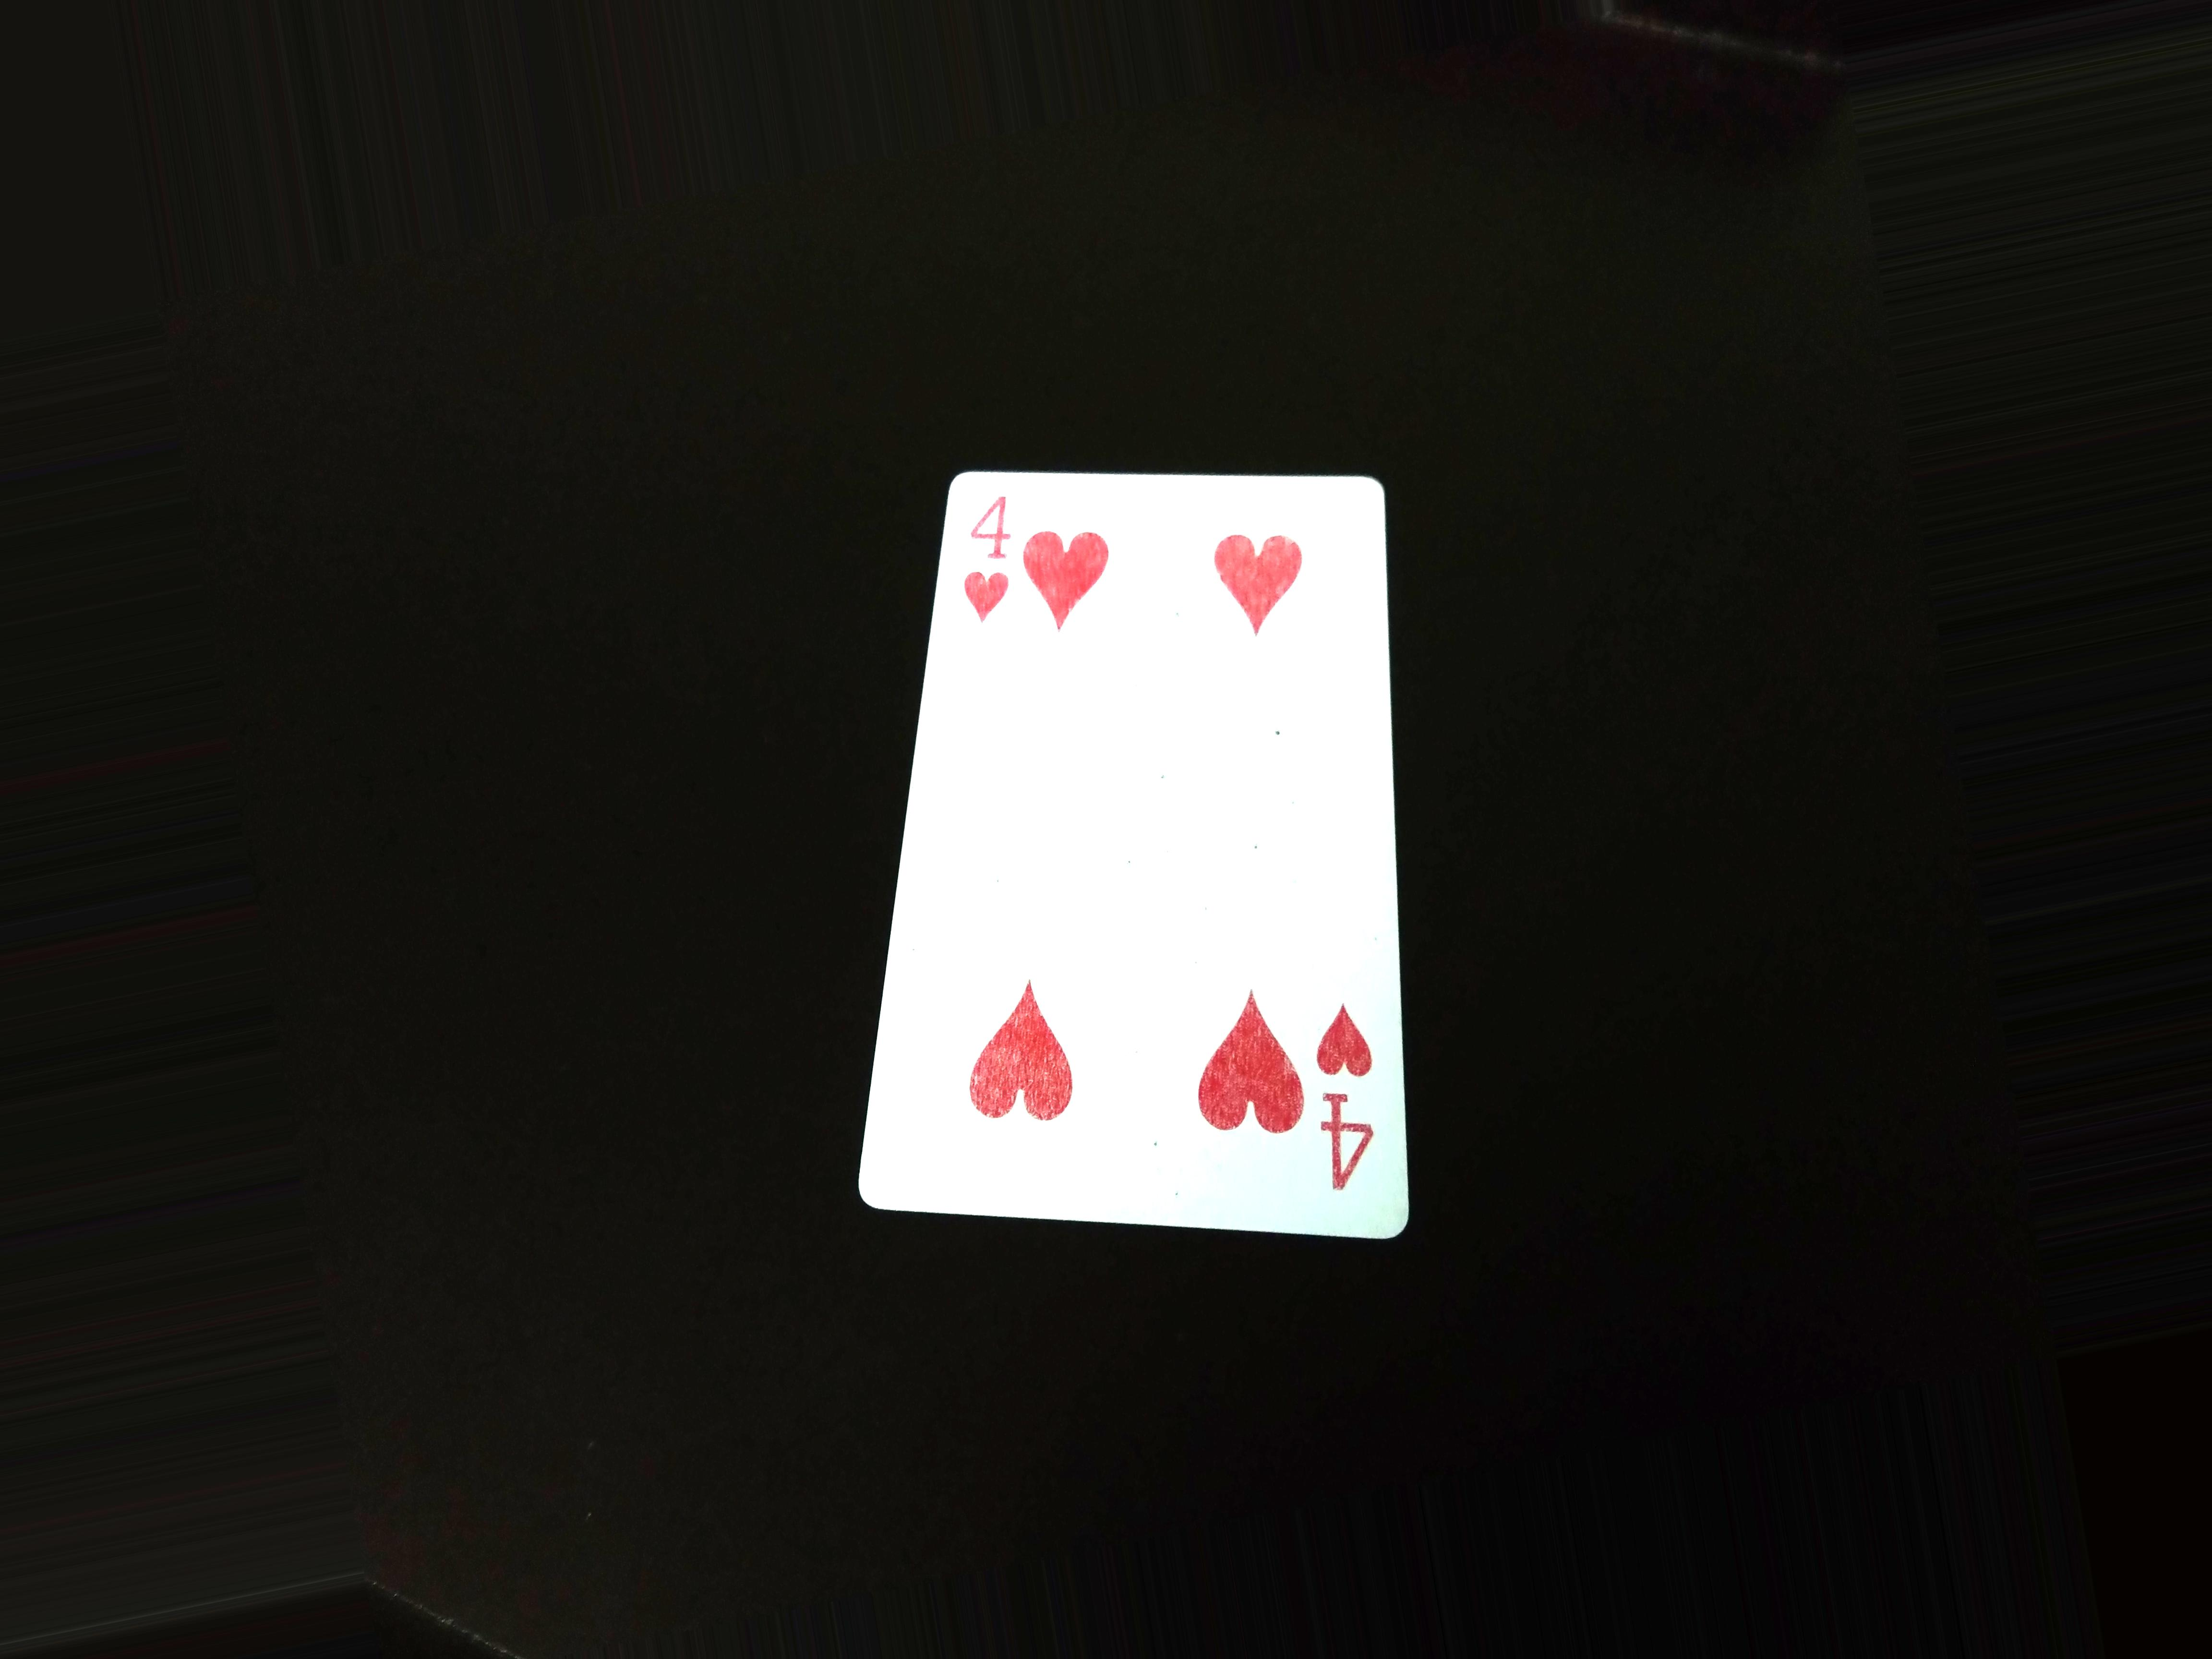4H: (1320, 992, 1383, 1213)
